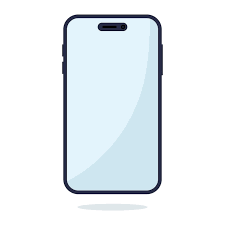phone: (50, 7, 174, 205)
